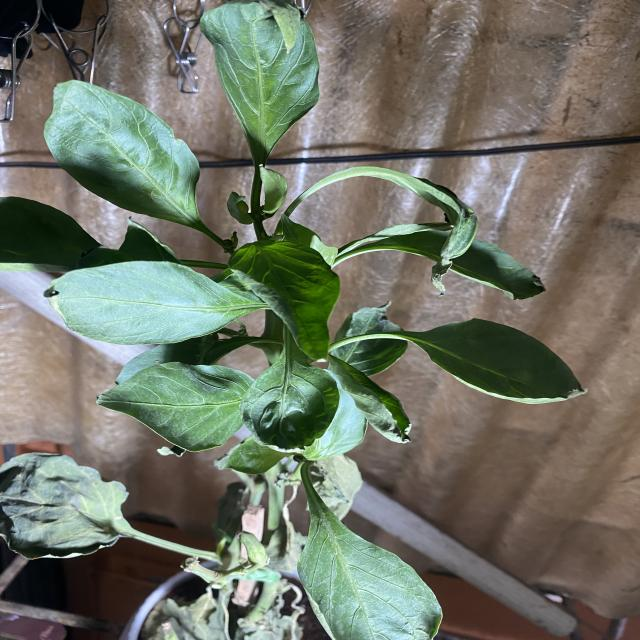Leaf: (43, 78, 200, 222), (296, 508, 445, 640), (198, 2, 322, 158), (44, 260, 258, 348), (93, 359, 260, 452), (414, 317, 588, 406), (2, 450, 131, 562), (228, 237, 342, 363), (240, 360, 339, 454)
